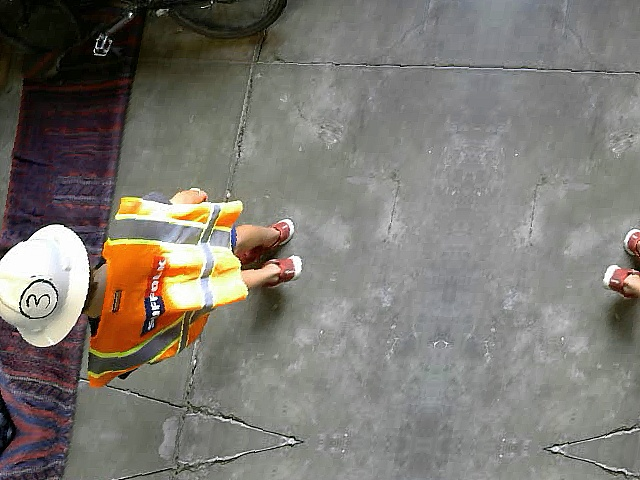three: (15, 276, 61, 319)
